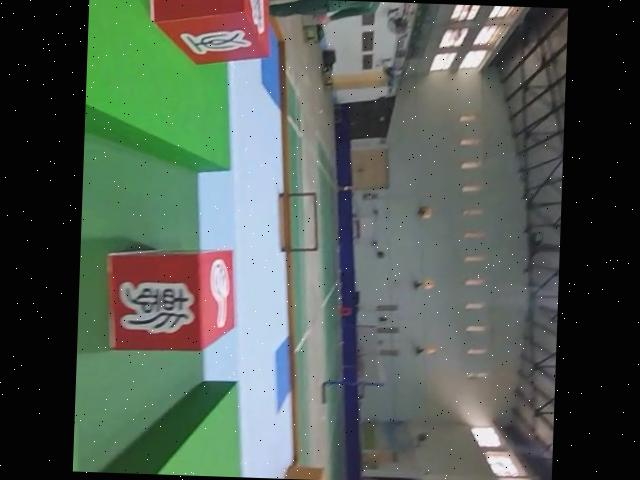R2 Fake: (101, 241, 242, 356), (141, 0, 277, 66)
